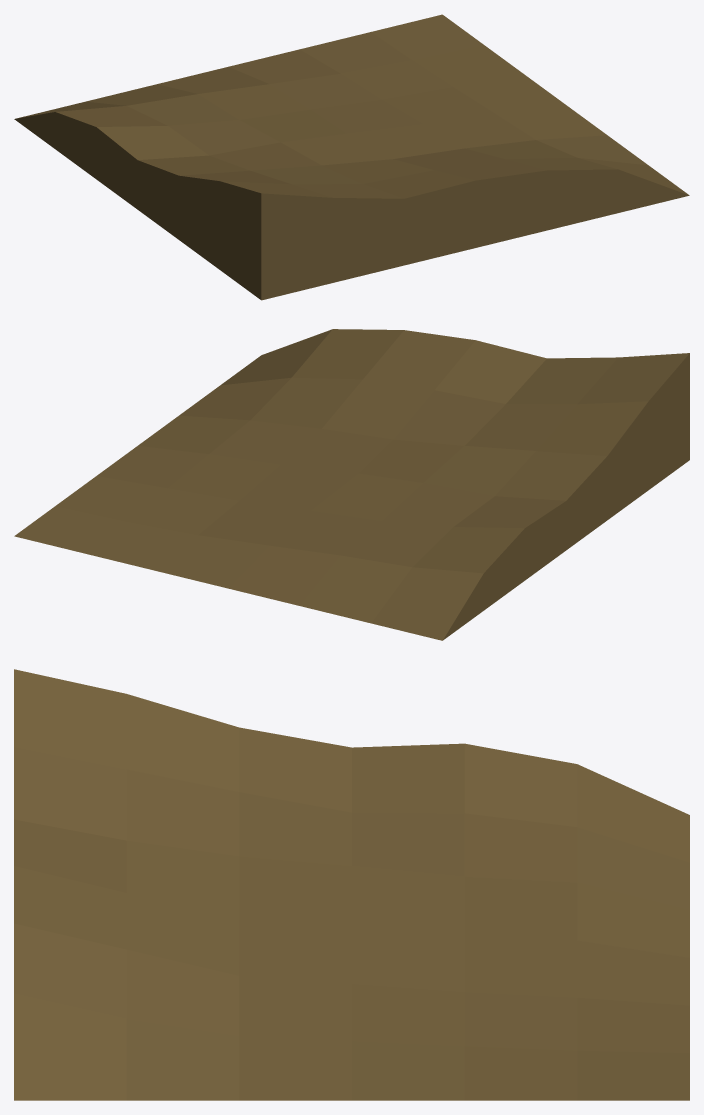
The model's file is ForestGround.fbx.
3 renders of one model, top to bottom at view 1: azimuth 30°, elevation 25°; view 2: azimuth 150°, elevation 25°; view 3: azimuth 270°, elevation 25°, orthographic. The views are drawn at different scales.
Parts seen in each view (by area): view 1: ForestGround; view 2: ForestGround; view 3: ForestGround.
Part boxes in pixels (left/top/right/bottom): ForestGround: left=14, top=14, right=689, bottom=300; ForestGround: left=14, top=329, right=689, bottom=640; ForestGround: left=14, top=669, right=689, bottom=1100.
Bounding box in the file's own units: 1000 × 239 × 1000.
